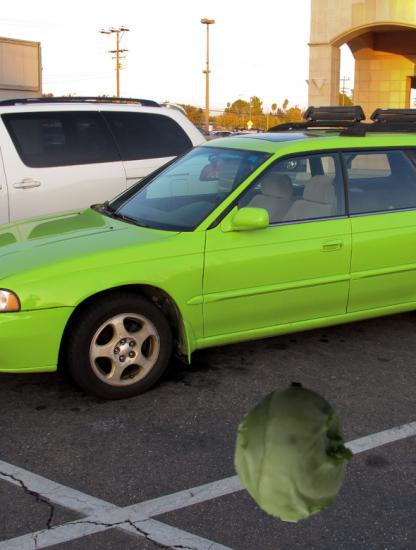Kohlrabi: (224, 383, 363, 522)
